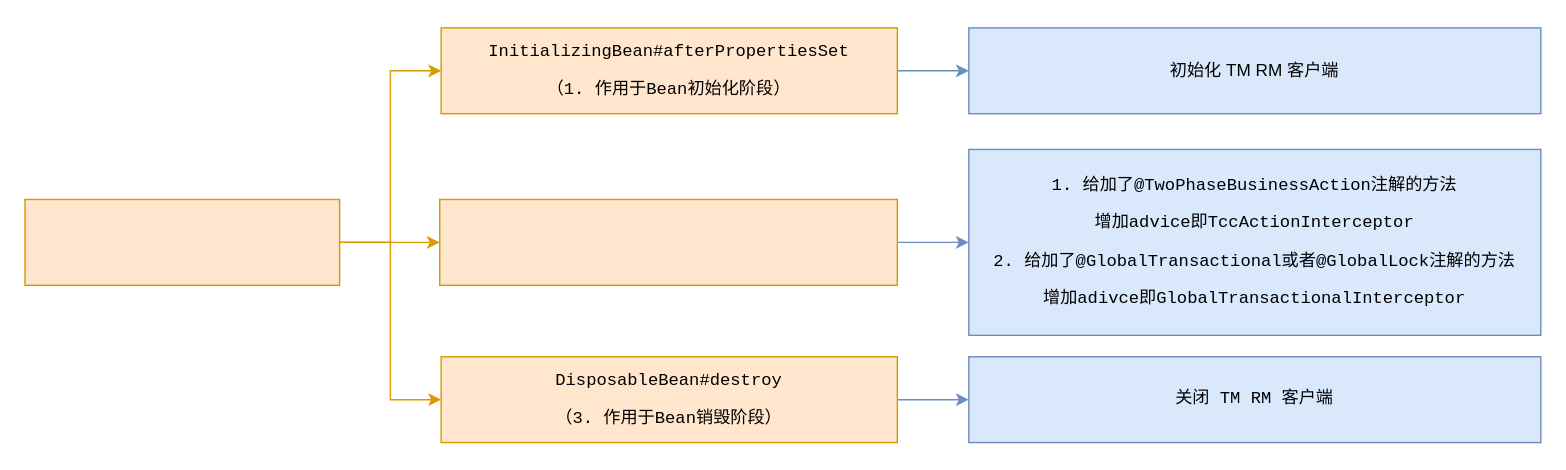
Image size: 1566x470. Some labels were removed from this diagram. The centre of each missing label's shape, as x and y in pixels:
"AbstractAutoProxyCreator#wrapIfNecessary (2. 作用于Bean初始化后阶段)" goes at pixel 667 241.
"GlobalTransactionScanner" goes at pixel 182 241.
